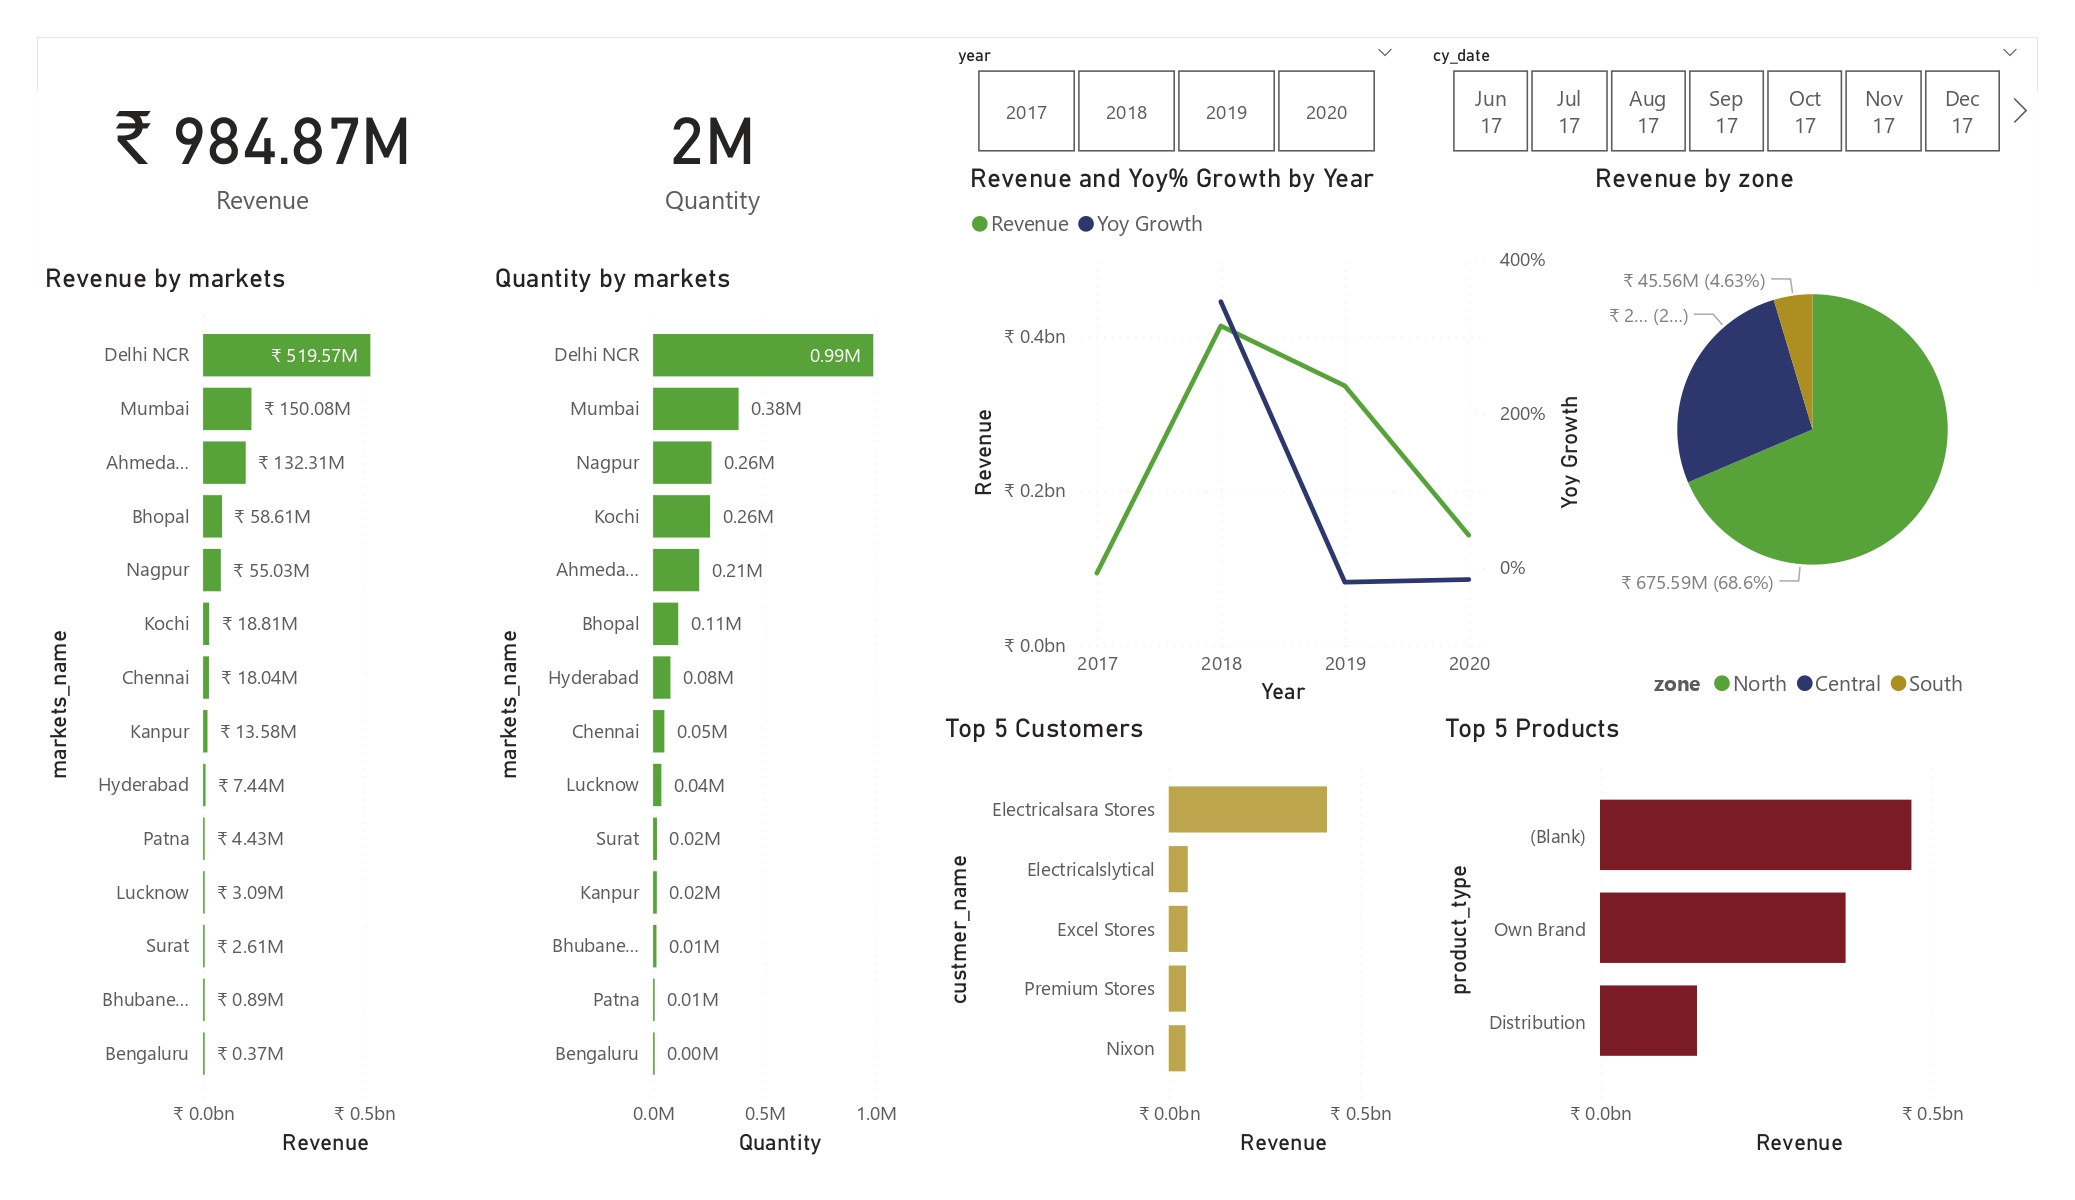

The dashboard page shown, as its layout file describes it:
{"tool":"powerbi","page":{"name":"Revenue Insights","canvas":[1280,720],"ordinal":0},"visuals":[{"type":"card","fields":{"Values":["Base Measures.Revenue"]},"box":[0,0,288,144],"z":0},{"type":"clusteredBarChart","title":"Revenue by markets","fields":{"Category":["sales markets.markets_name"],"Y":["Base Measures.Revenue"]},"box":[0,144,288,576],"z":1000},{"type":"card","fields":{"Values":["Base Measures.Quantity"]},"box":[288,0,288,144],"z":2000},{"type":"clusteredBarChart","title":"Quantity by markets","fields":{"Category":["sales markets.markets_name"],"Y":["Base Measures.Quantity"]},"box":[288,144,288,576],"z":3000},{"type":"slicer","fields":{"Values":["sales date.year"]},"box":[576,0,304,80],"z":4000},{"type":"slicer","fields":{"Values":["sales date.cy_date"]},"box":[880,0,400,80],"z":5000},{"type":"clusteredBarChart","title":"Top 5 Customers","fields":{"Y":["Base Measures.Revenue"],"Category":["sales customers.custmer_name"]},"box":[576,432,320,288],"z":6000},{"type":"clusteredBarChart","title":"Top 5 Products","fields":{"Y":["Base Measures.Revenue"],"Category":["sales products.product_type"]},"box":[896,432,384,288],"z":7000},{"type":"lineChart","title":"Revenue and Yoy% Growth by Year","fields":{"Category":["sales date.cy_date.Variation.Date Hierarchy.Year","sales date.cy_date.Variation.Date Hierarchy.Quarter","sales date.cy_date.Variation.Date Hierarchy.Month","sales date.cy_date.Variation.Date Hierarchy.Day"],"Y":["Base Measures.Revenue"],"Y2":["Base Measures.Yoy Growth"]},"box":[592,80,400,352],"z":8000},{"type":"pieChart","fields":{"Category":["sales markets.zone"],"Y":["Base Measures.Revenue"]},"box":[992,80,288,352],"z":9000}]}

Visuals, with their boxes on the page's 1280x720 design canvas (x1, y1, x2, y2). These are canvas units, not pixel positions in the 2075x1200 screenshot, which may show the page scaled, cropped or inside an application window:
card - Base Measures.Revenue: box(0, 0, 288, 144)
"Revenue by markets" clusteredBarChart: box(0, 144, 288, 720)
card - Base Measures.Quantity: box(288, 0, 576, 144)
"Quantity by markets" clusteredBarChart: box(288, 144, 576, 720)
slicer - sales date.year: box(576, 0, 880, 80)
slicer - sales date.cy_date: box(880, 0, 1280, 80)
"Top 5 Customers" clusteredBarChart: box(576, 432, 896, 720)
"Top 5 Products" clusteredBarChart: box(896, 432, 1280, 720)
"Revenue and Yoy% Growth by Year" lineChart: box(592, 80, 992, 432)
pieChart - sales markets.zone x Base Measures.Revenue: box(992, 80, 1280, 432)
